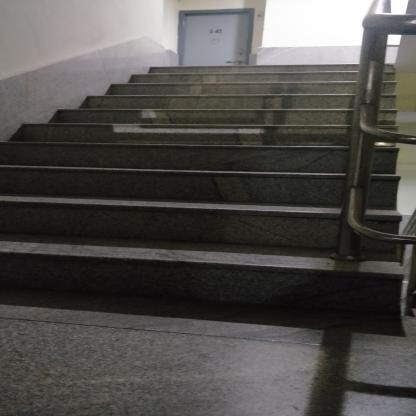stairs: (34, 118, 337, 316)
